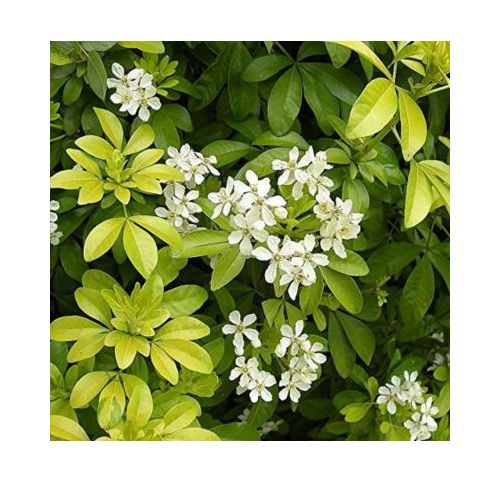flower: (291, 234, 327, 281), (102, 58, 143, 96), (232, 214, 268, 257), (260, 239, 294, 282), (220, 309, 261, 344), (274, 149, 313, 182), (247, 195, 288, 226), (277, 316, 310, 354), (210, 178, 240, 218), (241, 168, 270, 208), (132, 85, 162, 123), (278, 371, 313, 403), (156, 197, 189, 230), (233, 354, 263, 386), (301, 337, 330, 369), (402, 408, 430, 439), (193, 149, 226, 175), (162, 140, 189, 171), (172, 183, 202, 210), (249, 373, 275, 402), (405, 369, 428, 399), (421, 397, 440, 433), (311, 197, 337, 223), (337, 215, 360, 243), (108, 85, 133, 110), (309, 173, 334, 198), (381, 385, 403, 413)
